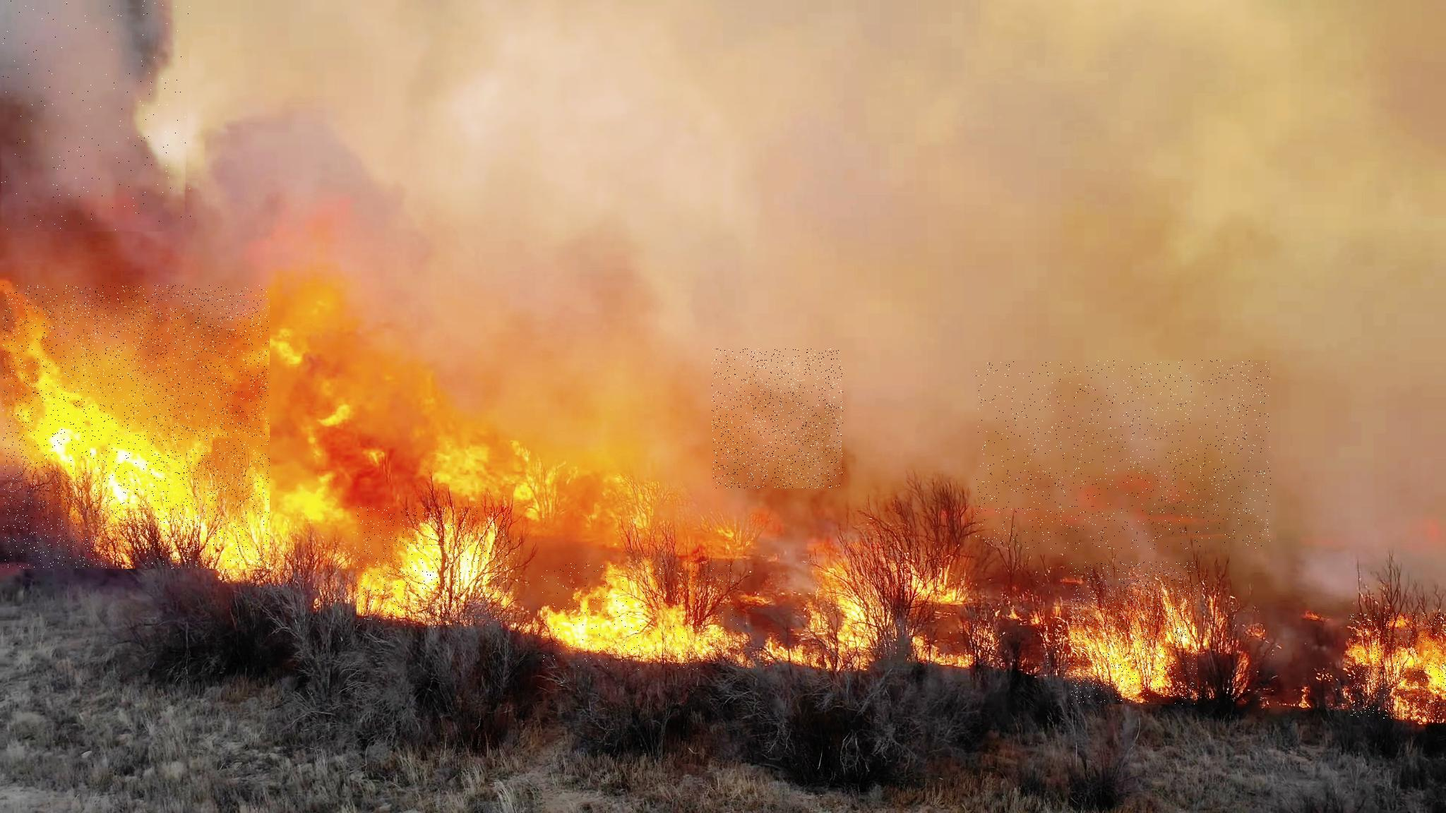fire: (3, 285, 270, 569), (542, 561, 738, 671), (1070, 562, 1198, 704), (357, 507, 510, 625), (1349, 613, 1446, 720)
smoke: (976, 360, 1271, 549), (1, 0, 191, 231), (712, 349, 843, 488)
